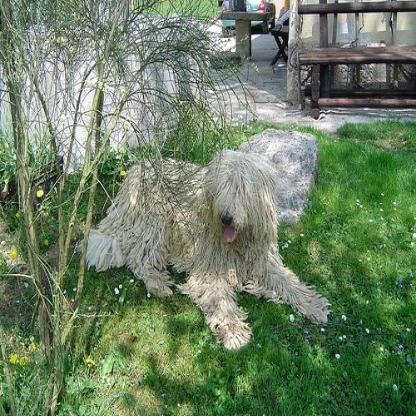komondor: (78, 144, 331, 352)
